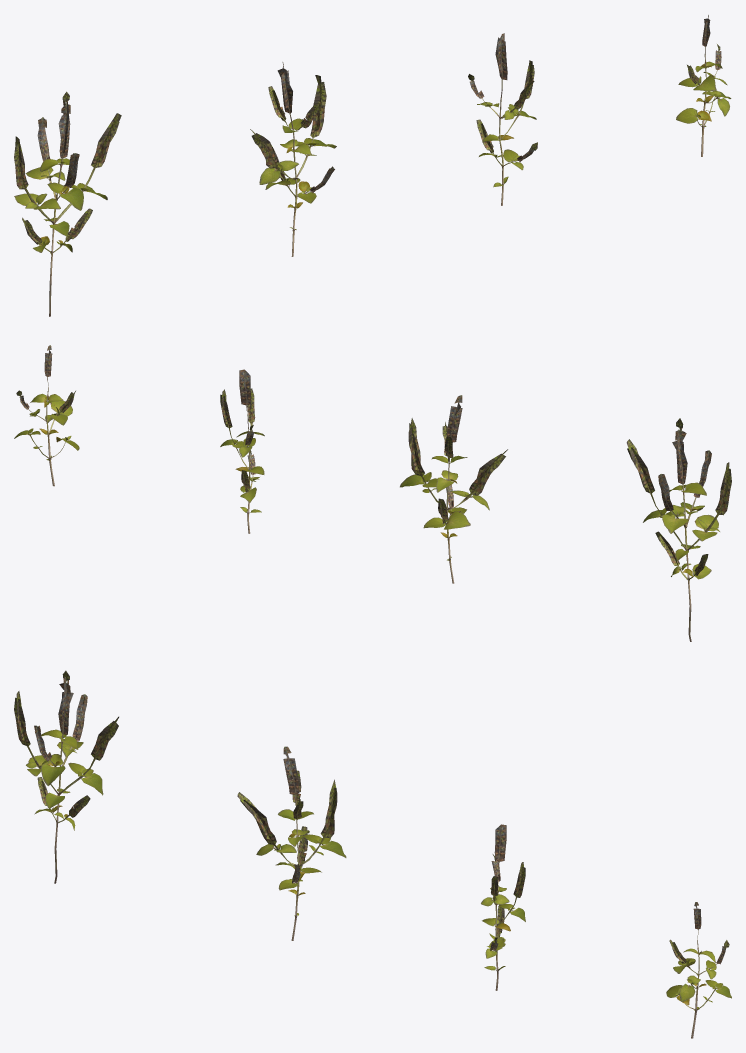
File: shrub_03_1k.gltf
3 renders of one model, top to bottom at view 1: azimuth 30°, elevation 25°; view 2: azimuth 150°, elevation 25°; view 3: azimuth 330°, elevation 25°, orthographic. The views are drawn at different scales.
Visible parts, largest first — view 1: shrub_03_a, shrub_03_b, shrub_03_c, shrub_03_d; view 2: shrub_03_a, shrub_03_b, shrub_03_c, shrub_03_d; view 3: shrub_03_a, shrub_03_b, shrub_03_c, shrub_03_d.
Part boxes in pixels (box(x1,y1,x2,y2)): shrub_03_a: box(14, 91, 121, 316); shrub_03_b: box(250, 62, 336, 256); shrub_03_c: box(468, 33, 537, 205); shrub_03_d: box(676, 15, 731, 156); shrub_03_a: box(626, 418, 731, 641); shrub_03_b: box(400, 395, 507, 583); shrub_03_c: box(220, 369, 264, 533); shrub_03_d: box(14, 345, 79, 486); shrub_03_a: box(14, 670, 118, 883); shrub_03_b: box(237, 746, 346, 940); shrub_03_c: box(481, 824, 525, 990); shrub_03_d: box(666, 902, 731, 1038).
Bounding box in the file's own units: 1.37 × 0.4028 × 0.1512.
Materials: 1 (1 with a texture image).
